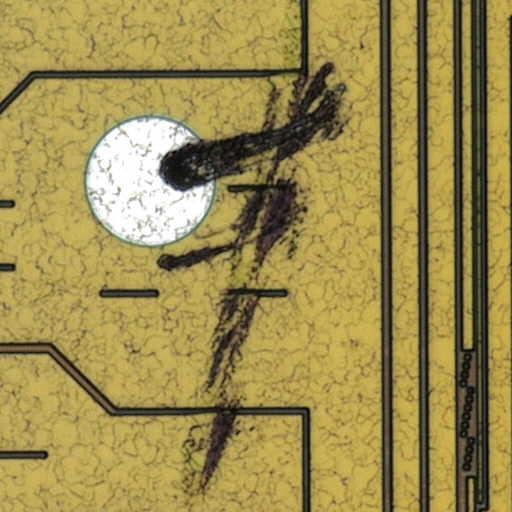SCRATCH: (150, 1, 361, 512)
